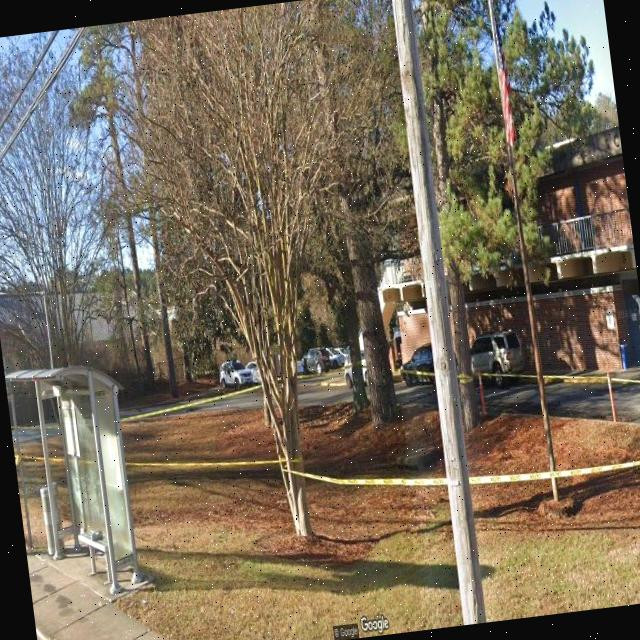seating: (76, 524, 108, 578)
shelter: (3, 355, 144, 602)
trash_can: (39, 483, 64, 559)
